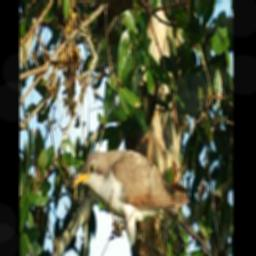Cuckoo: (70, 145, 191, 256)
